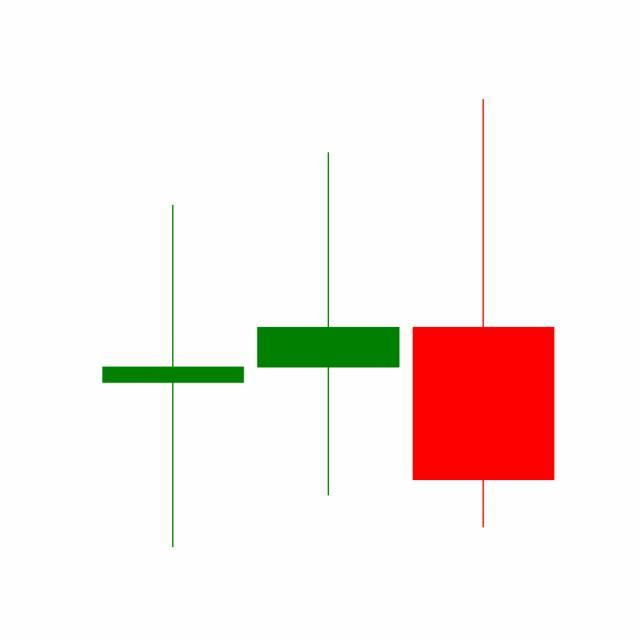Spinning Top: (250, 148, 407, 500)
